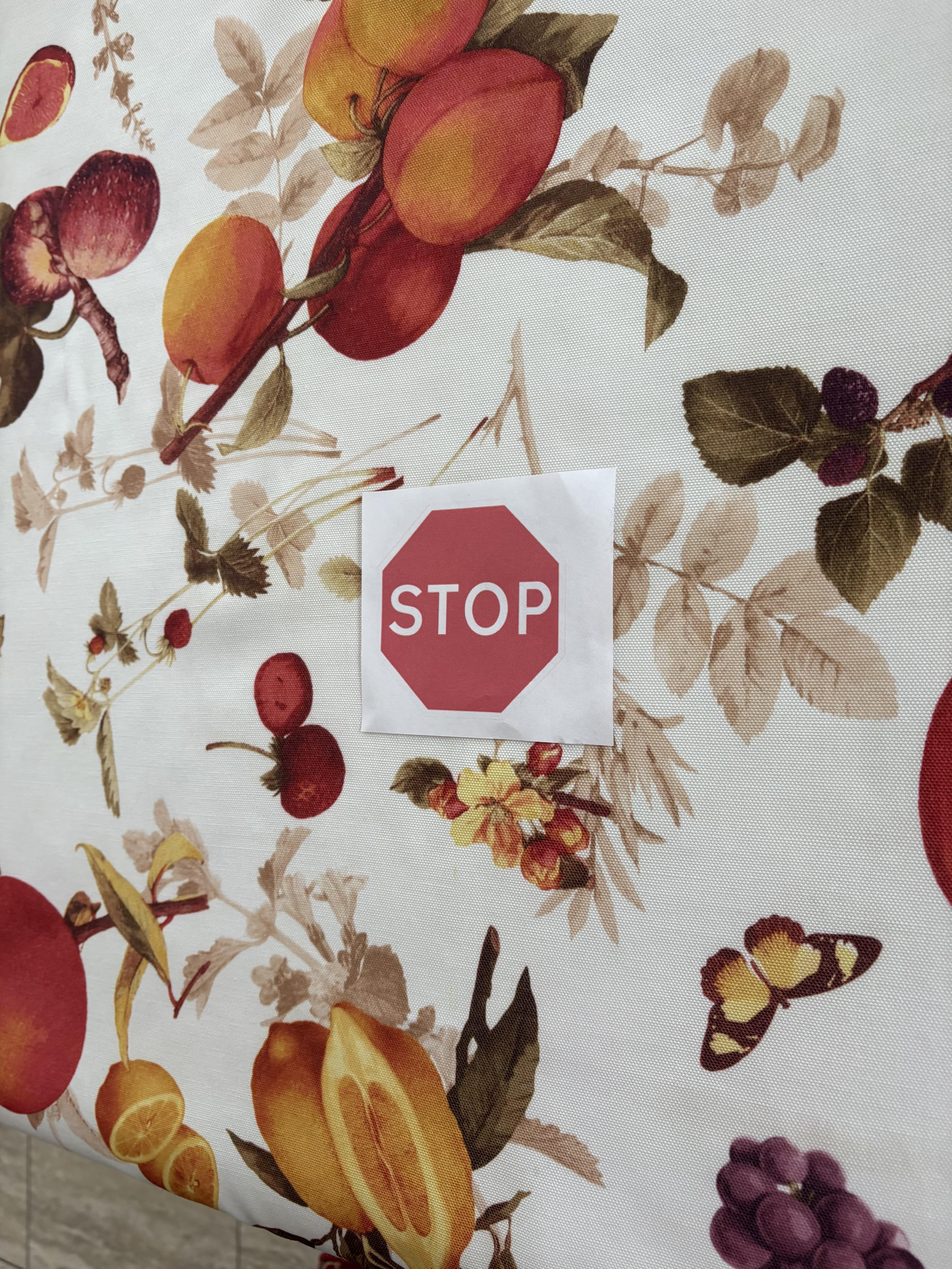Stop: (362, 493, 606, 734)
